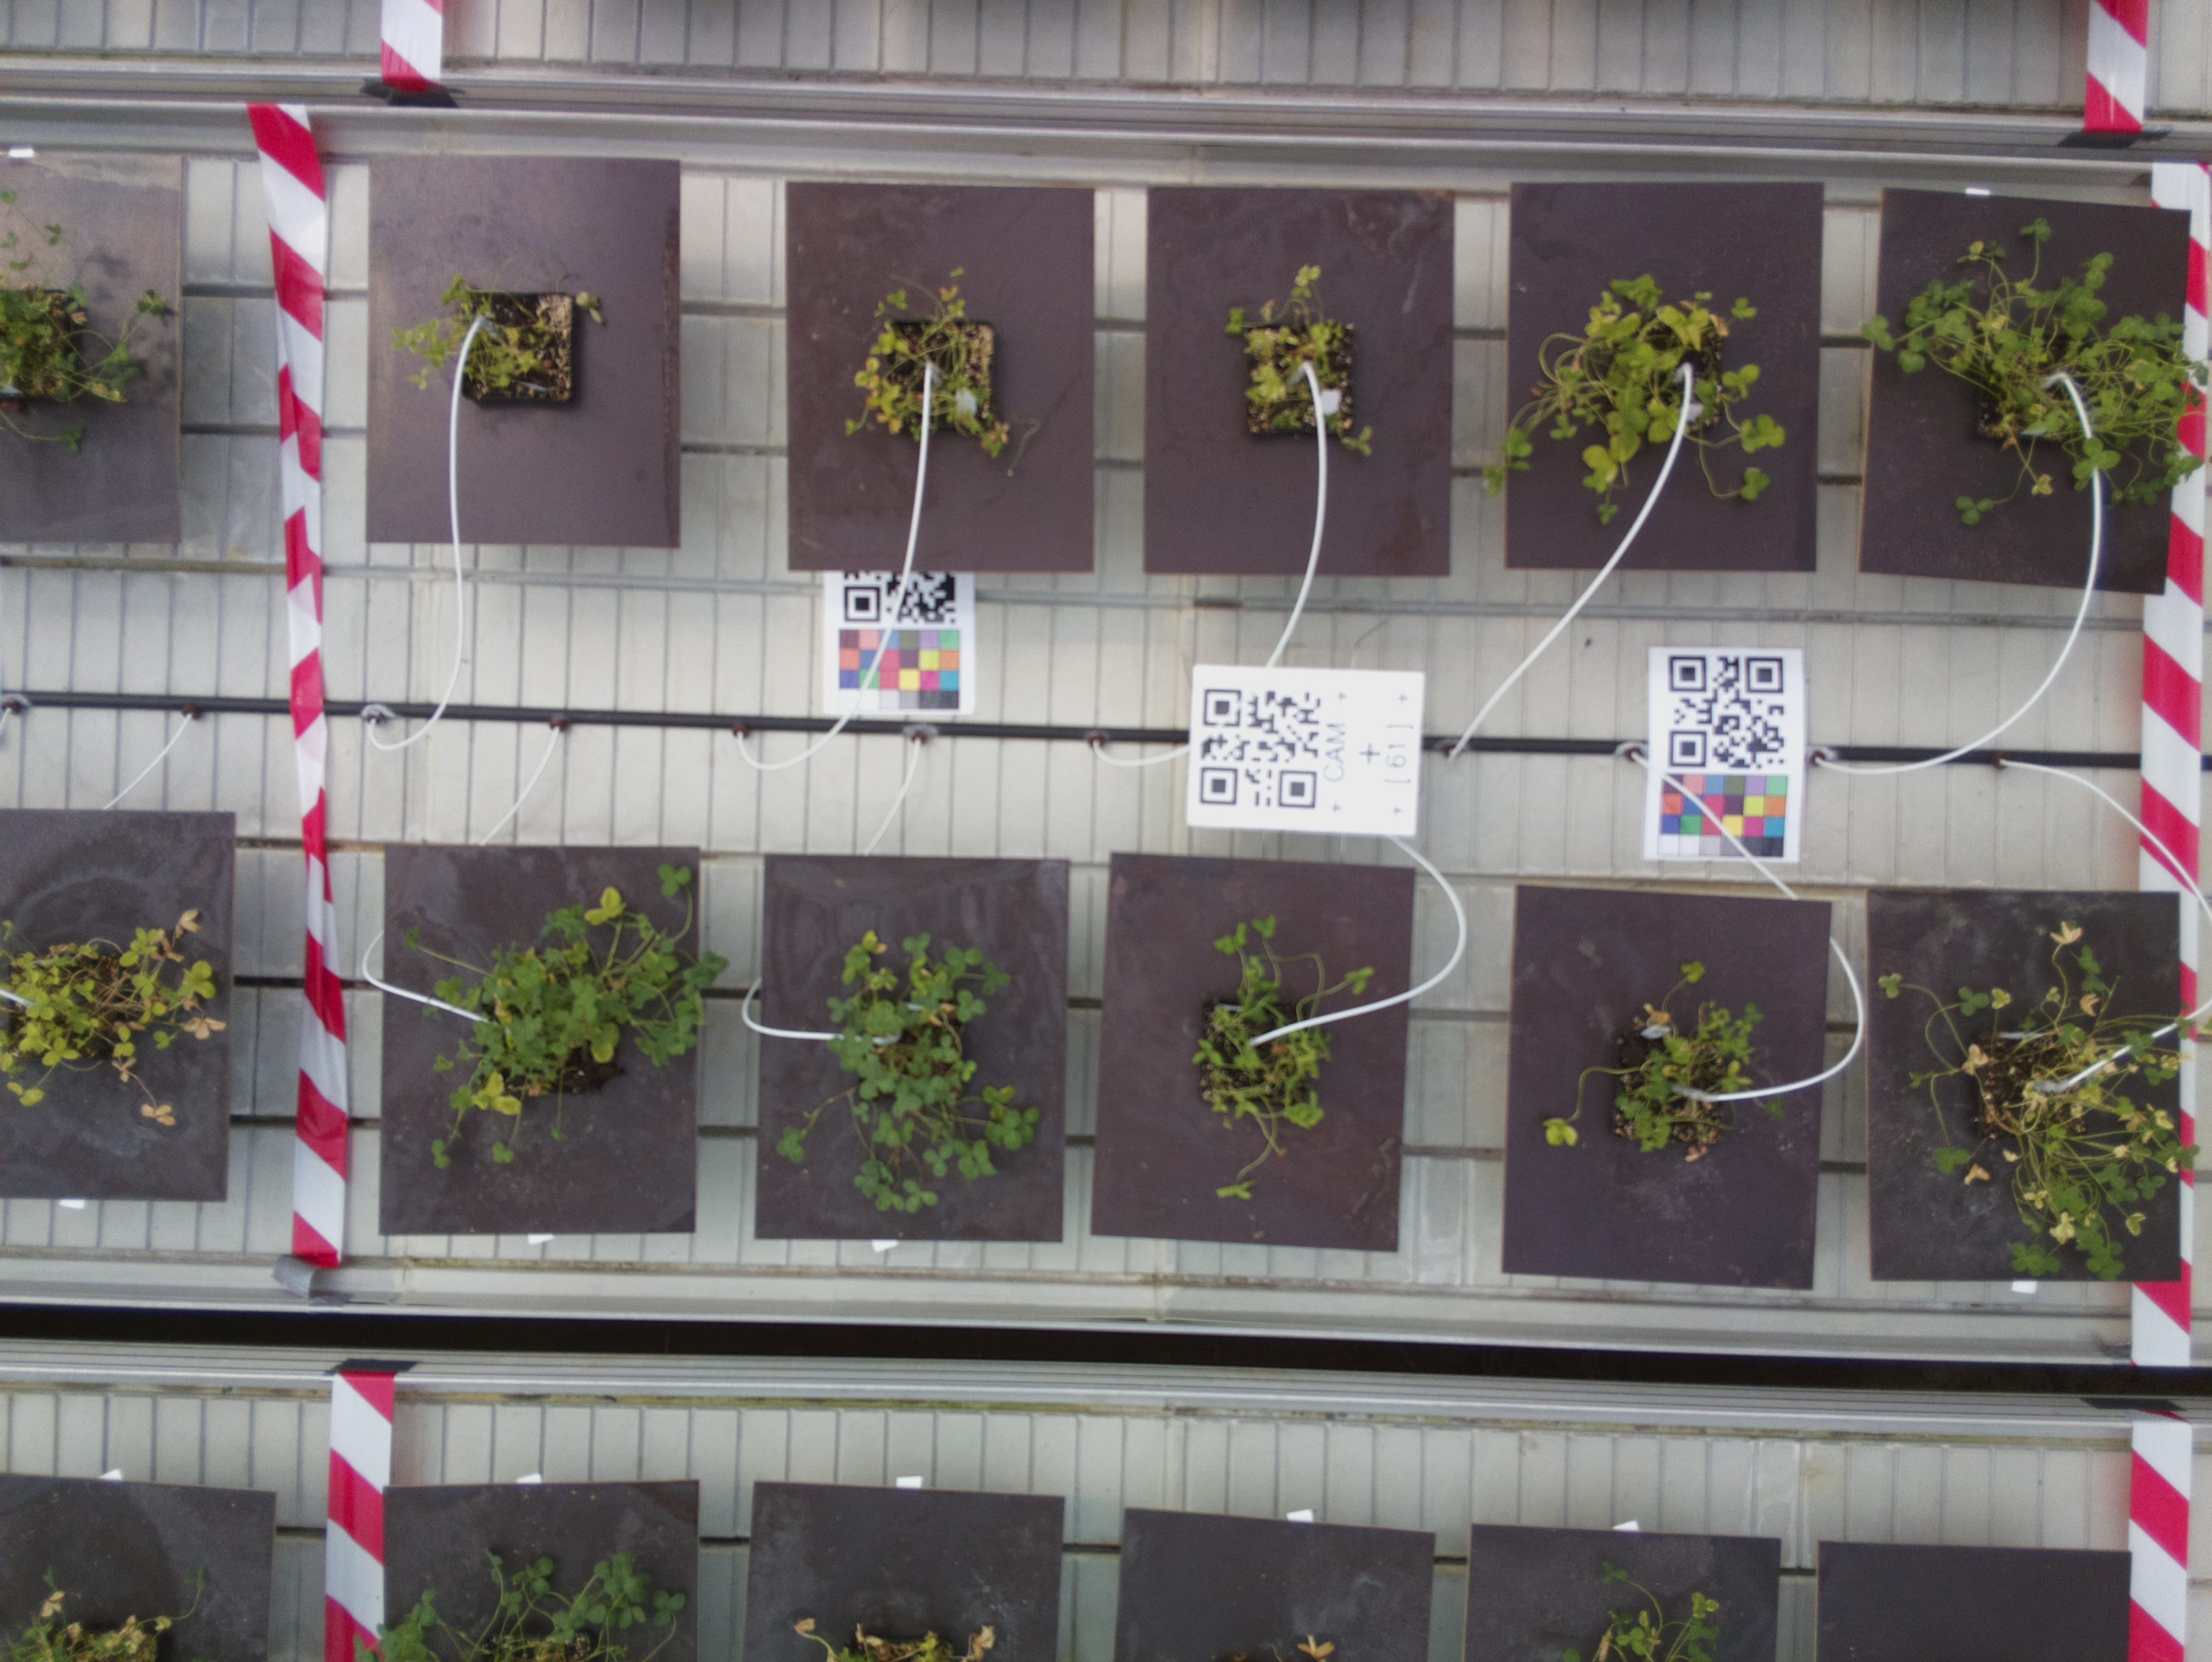POT: (1515, 890, 1833, 1290), (382, 838, 698, 1238), (1868, 889, 2188, 1283), (1103, 850, 1412, 1250), (1863, 187, 2189, 564), (368, 154, 679, 546), (1145, 183, 1458, 573), (1510, 183, 1823, 573), (789, 178, 1096, 573), (766, 854, 1068, 1245)
QRCODE: (1189, 665, 1421, 836)
QRCOLOR: (1639, 646, 1809, 866), (821, 571, 981, 709)
